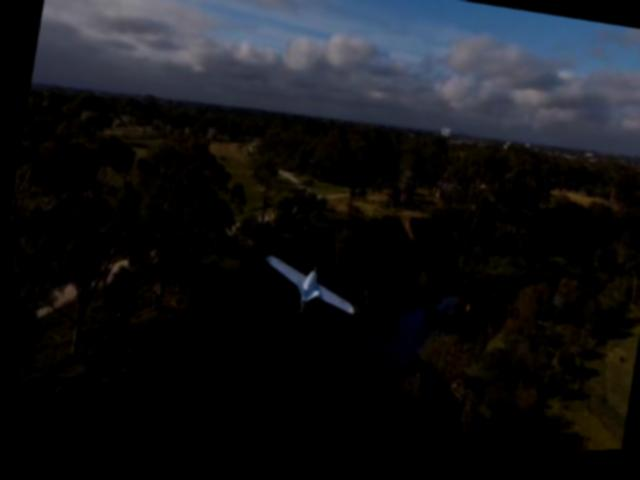uav: (251, 251, 364, 331)
